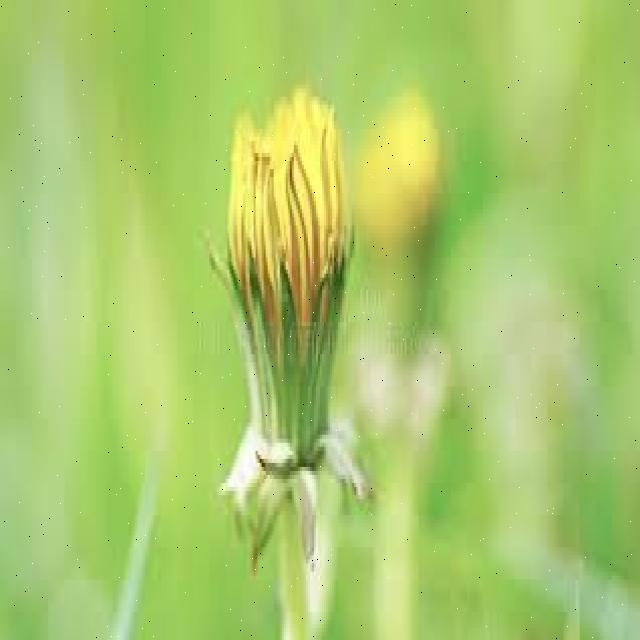Unbloomed: (208, 77, 370, 576)
